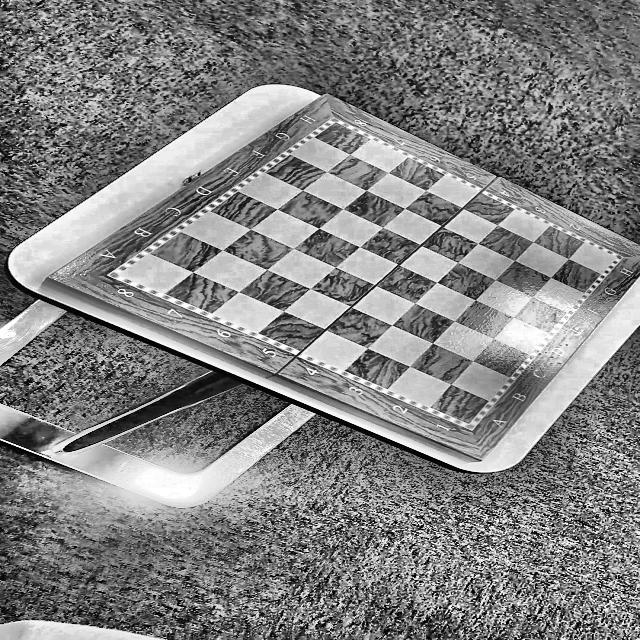chessboard: (117, 121, 617, 423)
